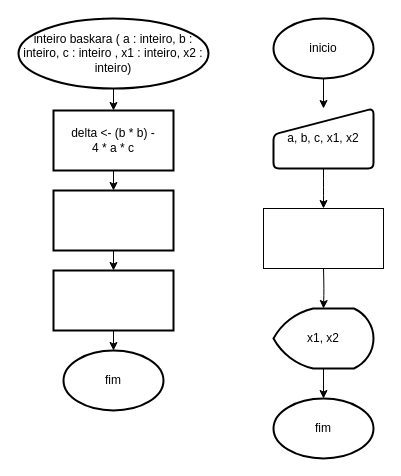
The diagram is 401 pixels wide and 476 high, and some of its shapes have lost their labels. The centre of each missing label's shape, as x and y in pixels:
"baskara (a,b,c,&x1,&x2)" goes at pixel 323 238.
"x1 <- ( - b - delta) / ( 2 * a )" goes at pixel 113 220.
"x2 <- ( - b + delta) / ( 2 * a )" goes at pixel 113 300.
